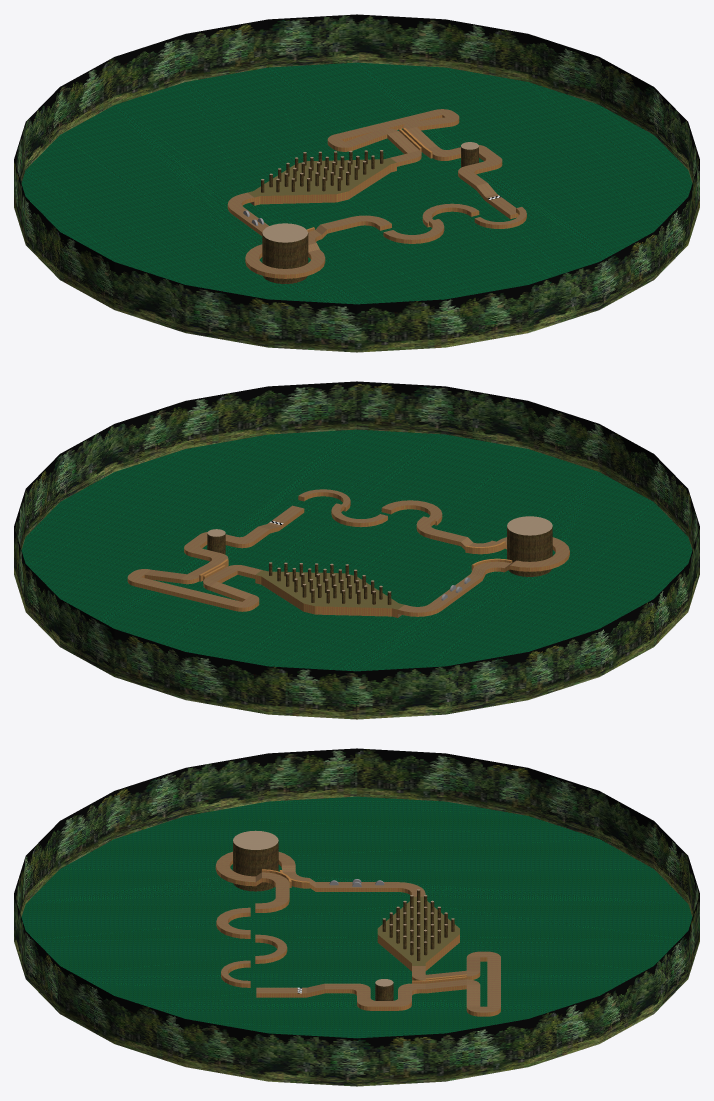
3 views of the same model, one above another, from view 1: azimuth 30°, elevation 25°; view 2: azimuth 150°, elevation 25°; view 3: azimuth 270°, elevation 25° (orthographic).
Parts seen in each view (by area): view 1: course-SKP--forest_fall, course-SKP--forest_sfondo, course-SKP--forest_road1, course-SKP--forest_wall, course-SKP--forest_wall_tree, course-SKP--forest_dirtroad, course-SKP--forest_tronco, course-SKP--forest_road2; view 2: course-SKP--forest_fall, course-SKP--forest_sfondo, course-SKP--forest_road1, course-SKP--forest_wall, course-SKP--forest_wall_tree, course-SKP--forest_dirtroad, course-SKP--forest_tronco, course-SKP--forest_road2; view 3: course-SKP--forest_fall, course-SKP--forest_sfondo, course-SKP--forest_road1, course-SKP--forest_wall, course-SKP--forest_wall_tree, course-SKP--forest_dirtroad, course-SKP--forest_tronco, course-SKP--forest_road2.
Part boxes in pixels (x1,y1,x2,y2): course-SKP--forest_fall: (21,62,692,304); course-SKP--forest_sfondo: (14,14,699,352); course-SKP--forest_road1: (228,109,526,274); course-SKP--forest_wall: (227,115,526,278); course-SKP--forest_wall_tree: (261,147,478,283); course-SKP--forest_dirtroad: (248,158,396,197); course-SKP--forest_tronco: (261,142,478,242); course-SKP--forest_road2: (315,117,451,234); course-SKP--forest_fall: (21,429,692,671); course-SKP--forest_sfondo: (14,381,699,719); course-SKP--forest_road1: (127,489,569,617); course-SKP--forest_wall: (127,492,569,617); course-SKP--forest_wall_tree: (207,526,552,604); course-SKP--forest_dirtroad: (256,570,404,609); course-SKP--forest_tronco: (207,516,552,592); course-SKP--forest_road2: (145,537,515,599); course-SKP--forest_fall: (21,796,692,1038); course-SKP--forest_sfondo: (14,748,699,1086); course-SKP--forest_road1: (216,851,500,1012); course-SKP--forest_wall: (215,860,500,1016); course-SKP--forest_wall_tree: (233,841,454,1000); course-SKP--forest_dirtroad: (377,896,459,965); course-SKP--forest_tronco: (233,830,454,986); course-SKP--forest_road2: (282,865,480,1006).
Bounding box in the file's own units: 150000 × 11621 × 150000.
Materials: 10 (10 with a texture image).
